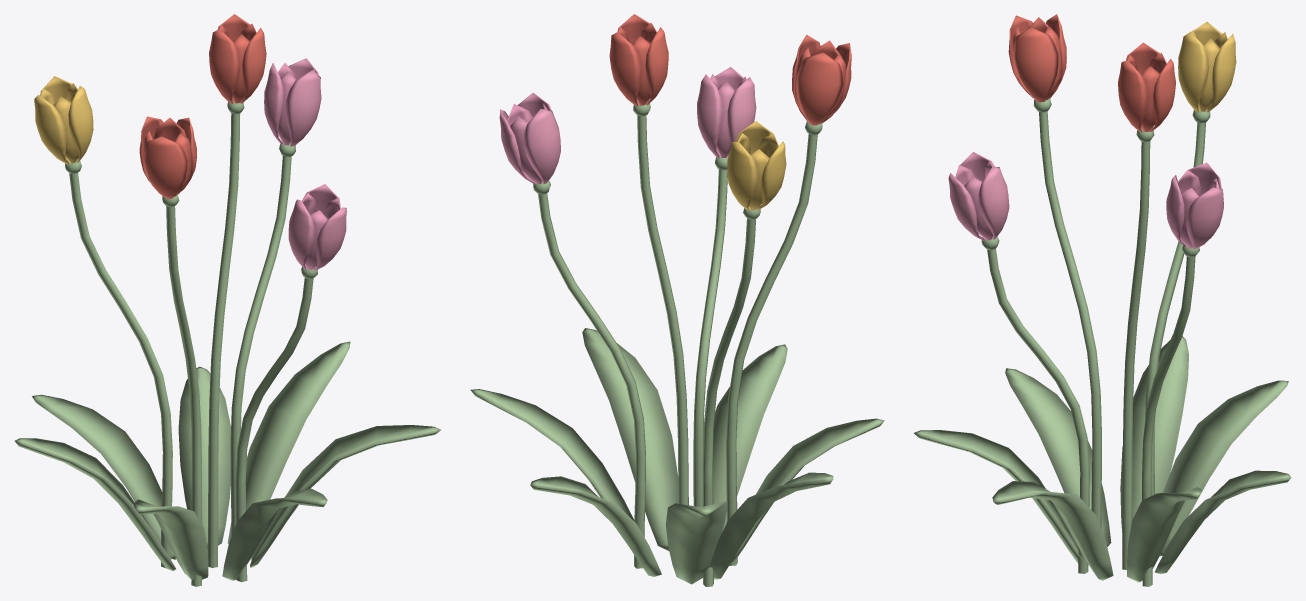
The model's file is tulip.glb.
The picture shows the model from 3 angles, left to right: view 1: azimuth 30°, elevation 25°; view 2: azimuth 150°, elevation 25°; view 3: azimuth 270°, elevation 25°; orthographic projection. The views are drawn at different scales.
Visible parts, largest first — view 1: tulip_body; view 2: tulip_body; view 3: tulip_body.
Part boxes in pixels (bbox=[...]): tulip_body: bbox=[14, 14, 440, 586]; tulip_body: bbox=[470, 14, 884, 586]; tulip_body: bbox=[914, 14, 1291, 586].
Size of the model in its own units: 0.3028 by 0.4433 by 0.2851.
Materials: 1 (1 with a texture image).
